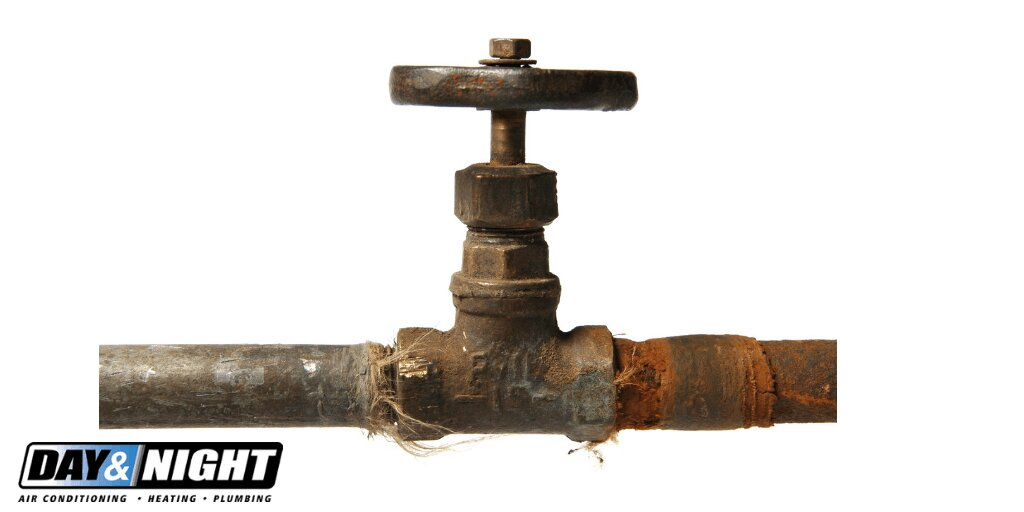Moderate: (556, 314, 841, 443)
